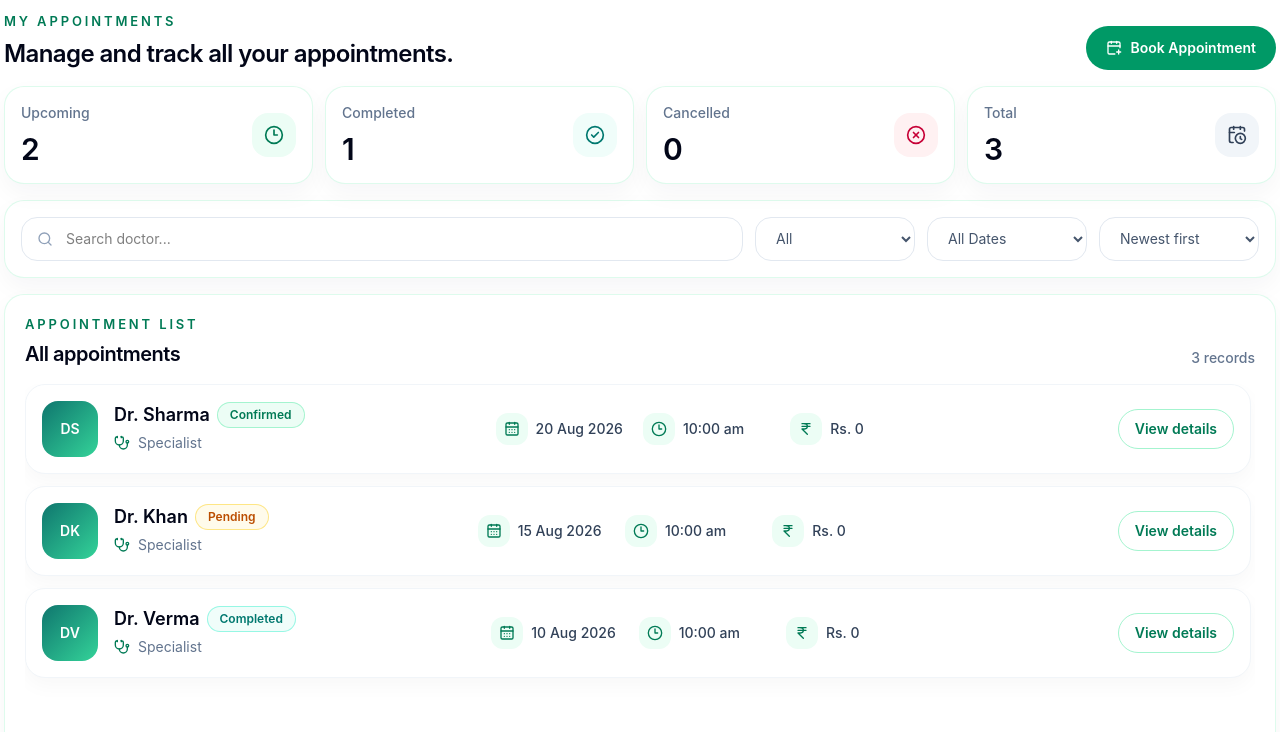
Test: Patient Appointments Flow › should search appointments by doctor name
Type "Sharma" into the field with placeholder "Search doctor...".
click(382, 238); type("Sharma")  # box [21,216,743,260]
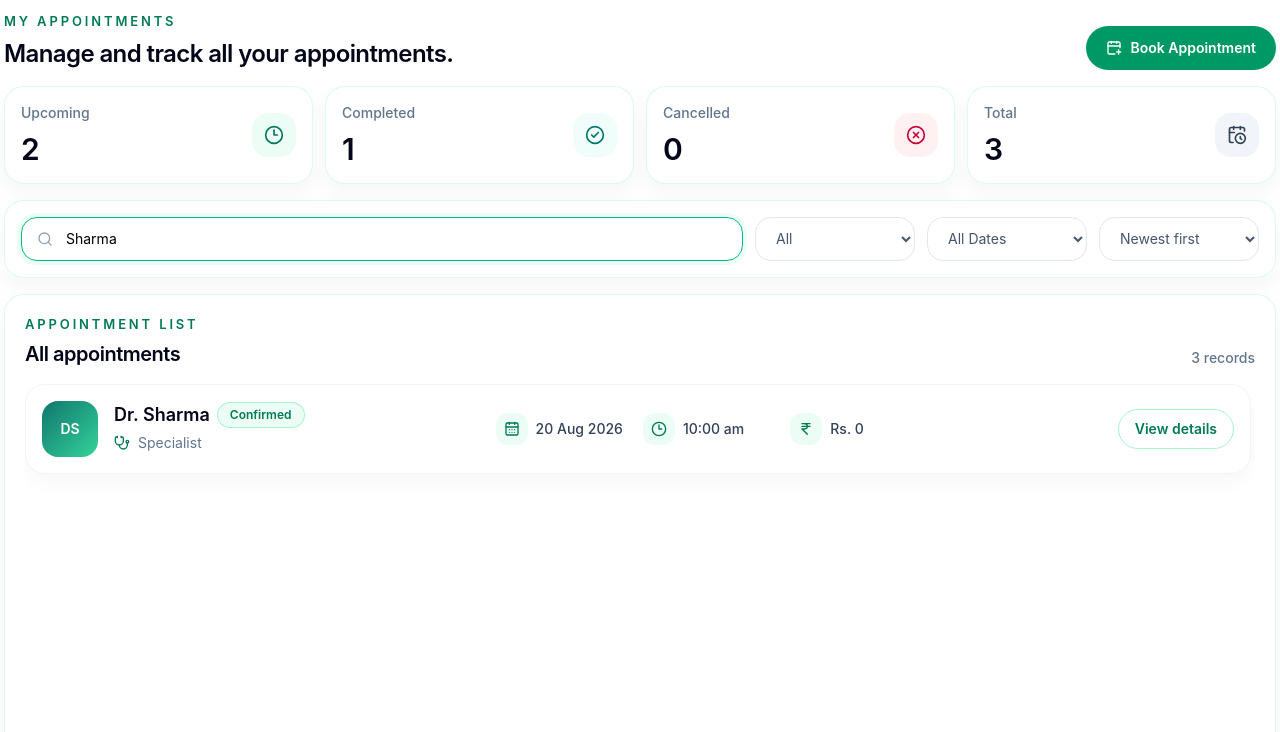
Expected: the heading "Dr. Sharma" is shown, [114,401,210,429]
Now the heading "Dr. Verma" is gone
Now the heading "Dr. Khan" is gone
